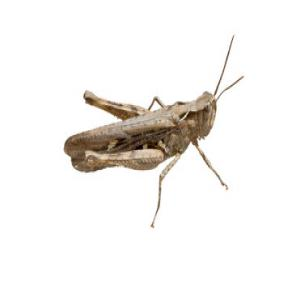locust: (68, 55, 240, 192)
